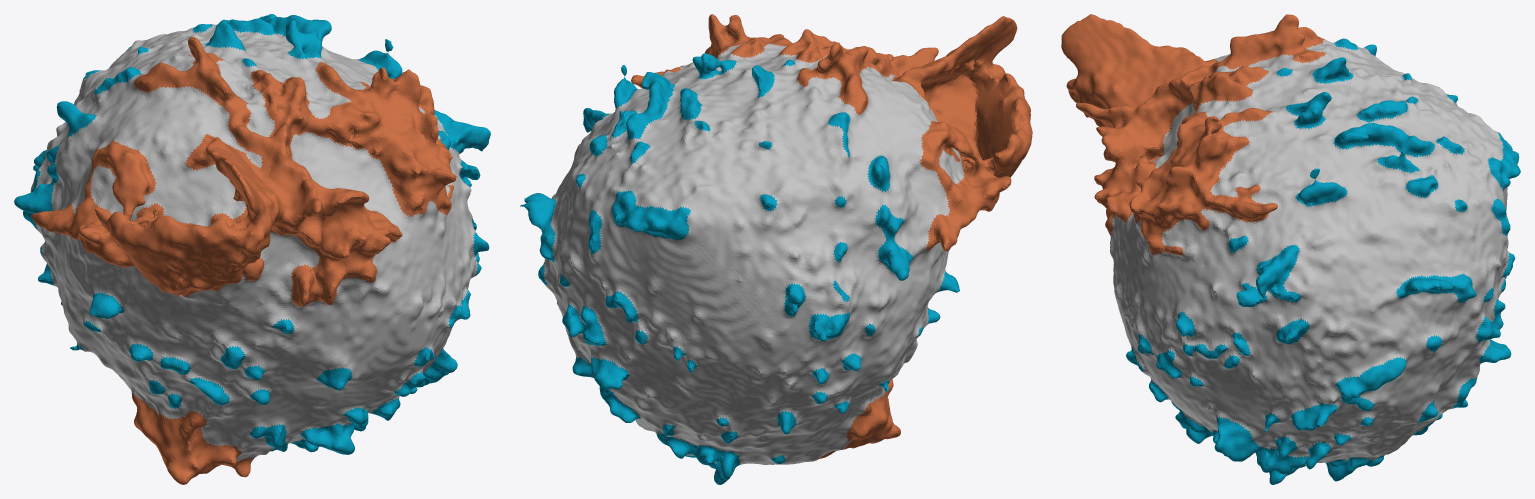
3 views of the same model, side by side, from view 1: azimuth 30°, elevation 25°; view 2: azimuth 150°, elevation 25°; view 3: azimuth 270°, elevation 25° (orthographic). The views are drawn at different scales.
Size of the model in its own units: 165 by 166 by 164.
